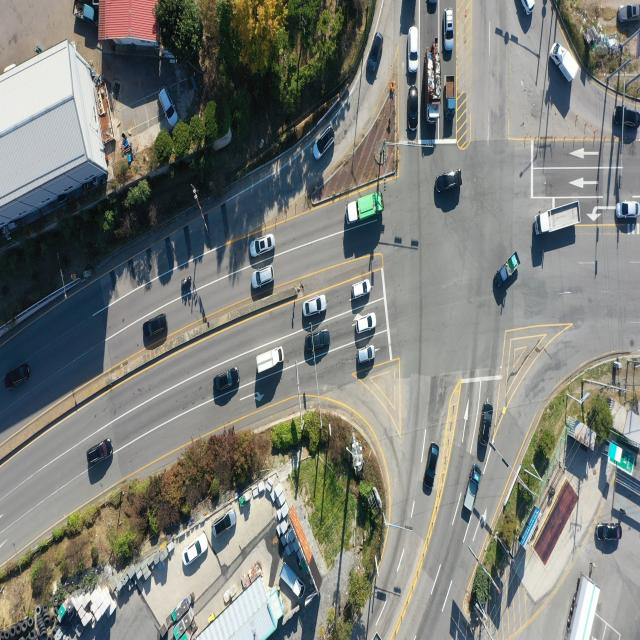car: (86, 438, 114, 472), (424, 442, 439, 494), (184, 536, 208, 568), (366, 33, 383, 78), (158, 85, 176, 126), (4, 363, 30, 389), (611, 106, 640, 129), (213, 368, 239, 393), (213, 511, 235, 540), (480, 403, 494, 448), (437, 169, 463, 193), (142, 314, 168, 338), (304, 331, 329, 355), (250, 235, 275, 258), (302, 294, 326, 317), (596, 521, 622, 542), (251, 266, 274, 289), (354, 312, 376, 335), (409, 88, 420, 132), (410, 26, 420, 73), (618, 3, 640, 23), (351, 279, 371, 301), (616, 202, 640, 220), (355, 345, 375, 365), (446, 10, 454, 51), (427, 0, 437, 16), (523, 0, 534, 13)
medium_truck: (565, 576, 599, 640), (536, 204, 582, 236), (344, 193, 382, 227), (425, 48, 440, 123), (551, 43, 577, 85)
small_truck: (280, 555, 306, 601), (462, 463, 481, 516), (256, 346, 285, 377), (498, 252, 520, 286), (313, 130, 335, 162), (446, 77, 457, 120), (72, 0, 96, 19)
